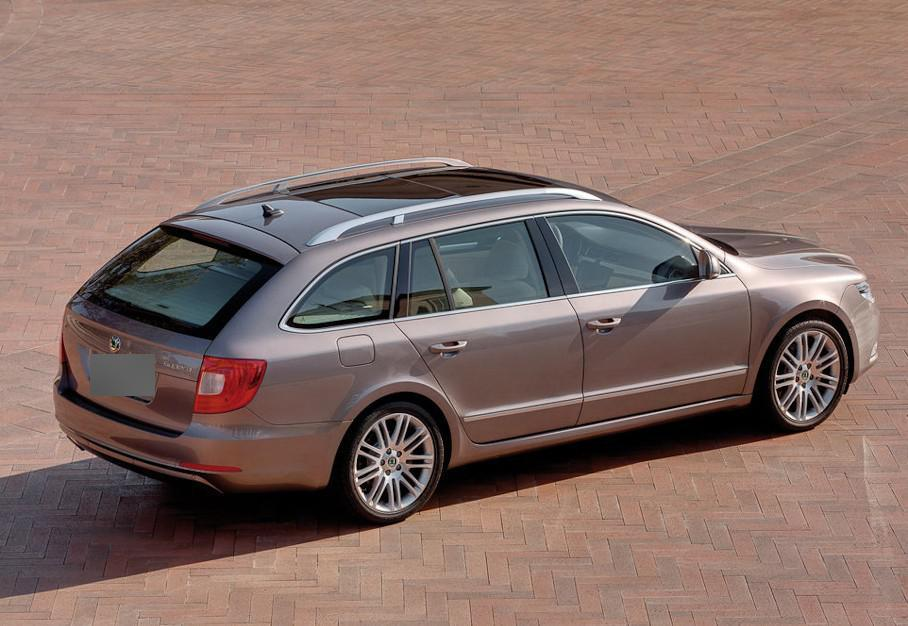Wagon: (52, 158, 882, 524)
